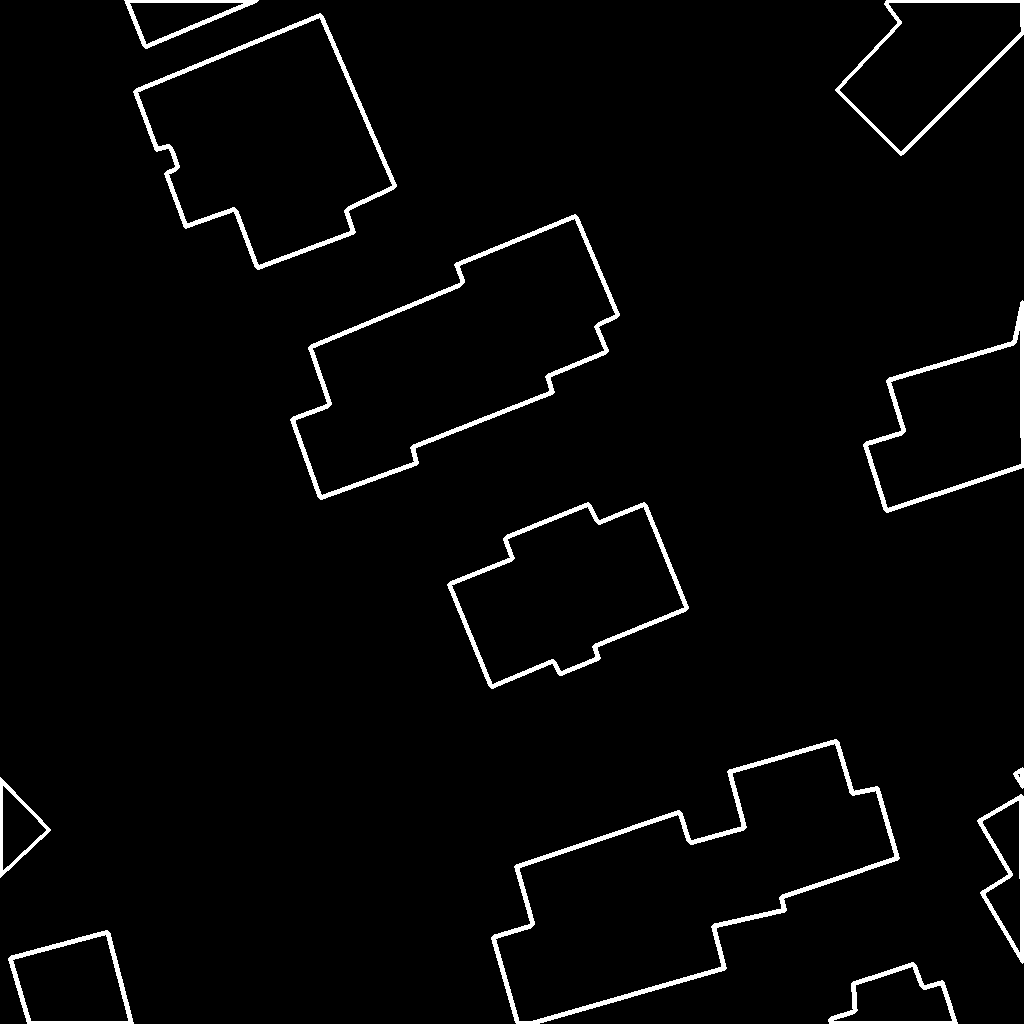building: (493, 741, 899, 1024), (292, 216, 619, 499), (135, 15, 396, 269), (449, 504, 688, 688), (865, 300, 1024, 512), (837, 0, 1024, 155), (10, 932, 133, 1024), (979, 769, 1024, 963), (830, 964, 957, 1024), (126, 0, 259, 48), (0, 779, 50, 877)
